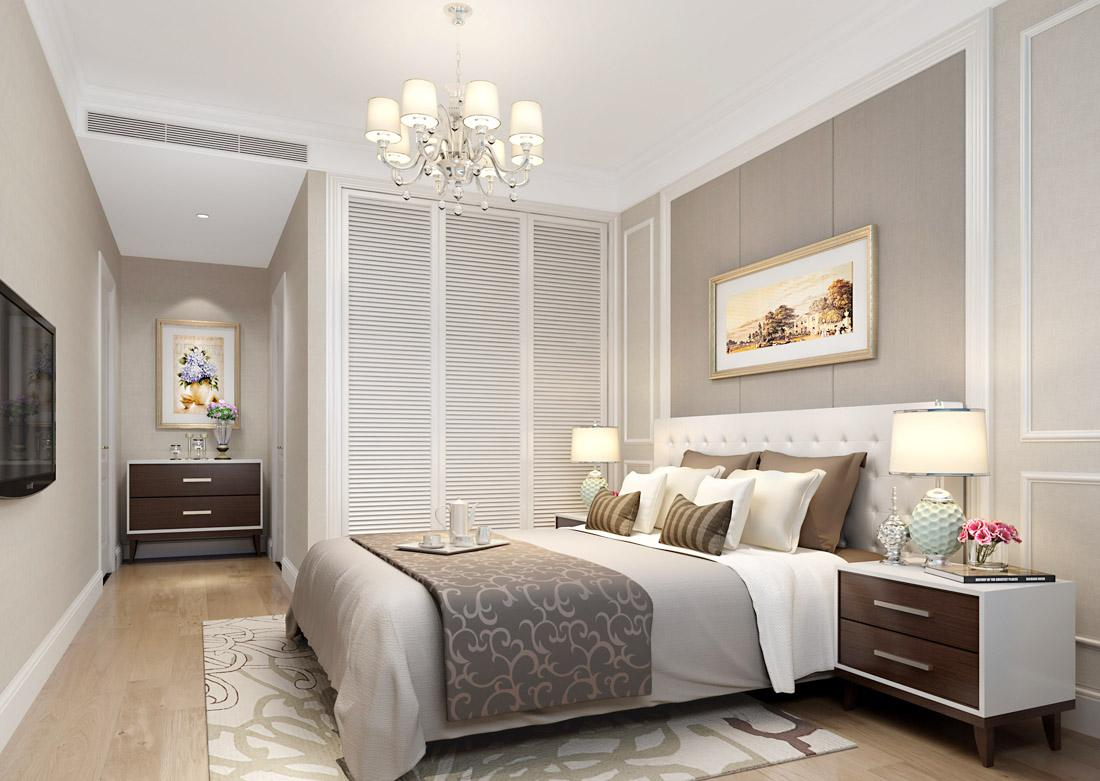床: (277, 527, 863, 748)
枕头: (604, 451, 870, 557)
灯: (353, 14, 552, 208), (892, 400, 1000, 564), (569, 424, 626, 524), (187, 209, 214, 227)
